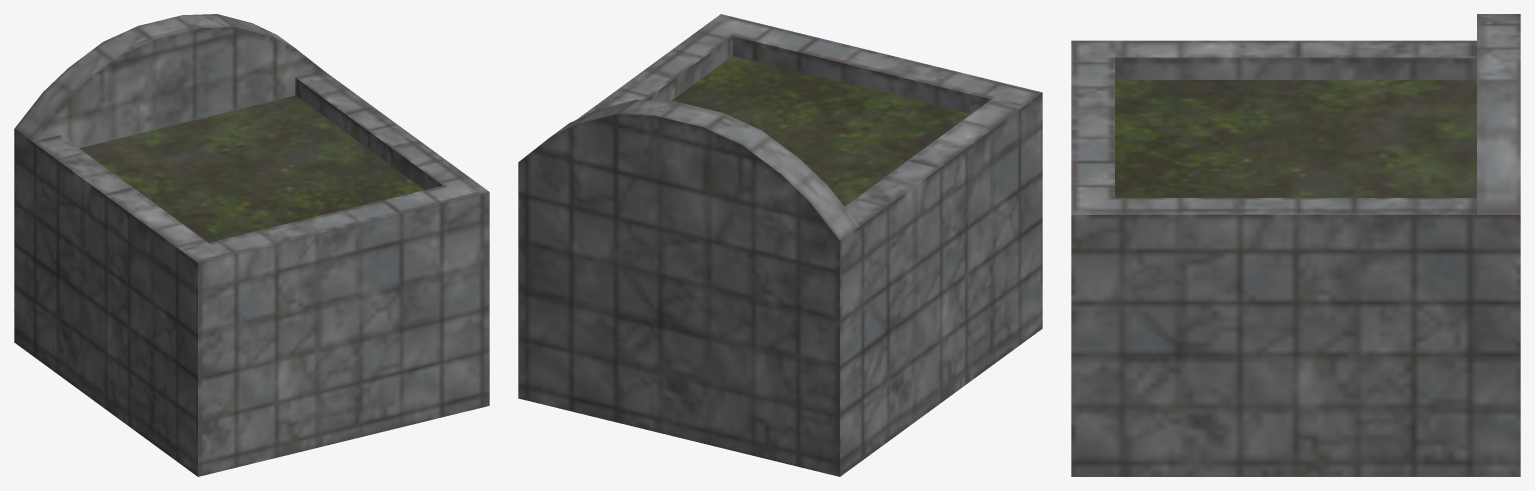
Rendered from Tombstone with arch.fbx.
3 renders of one model, left to right at view 1: azimuth 30°, elevation 25°; view 2: azimuth 150°, elevation 25°; view 3: azimuth 270°, elevation 25°, orthographic. The views are drawn at different scales.
Parts seen in each view (by area): view 1: Cube.003; view 2: Cube.003; view 3: Cube.003.
Boxes of the visible parts, x1,y1,x2,y2 form: Cube.003: (14, 14, 489, 476); Cube.003: (518, 14, 1042, 476); Cube.003: (1071, 14, 1520, 476).
Bounding box in the file's own units: 200 × 188 × 218.
